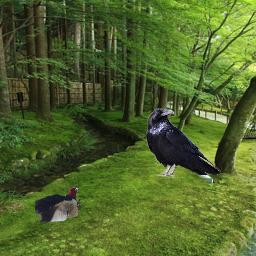Crow: (146, 108, 221, 184)
Woodpecker: (35, 185, 84, 223)
